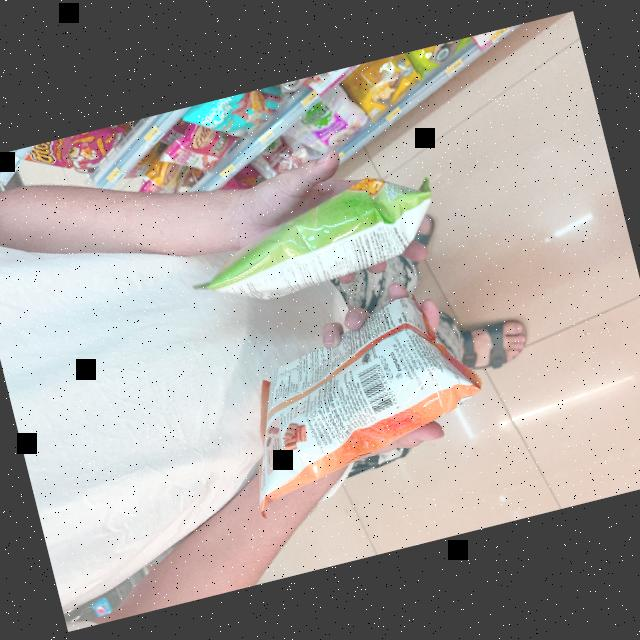snack_bag: (212, 267, 505, 523), (182, 155, 454, 327)
